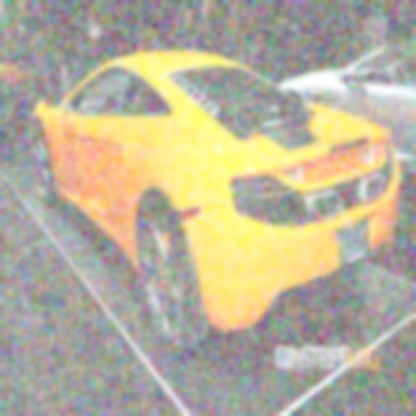Vehicle: (31, 51, 402, 357)
